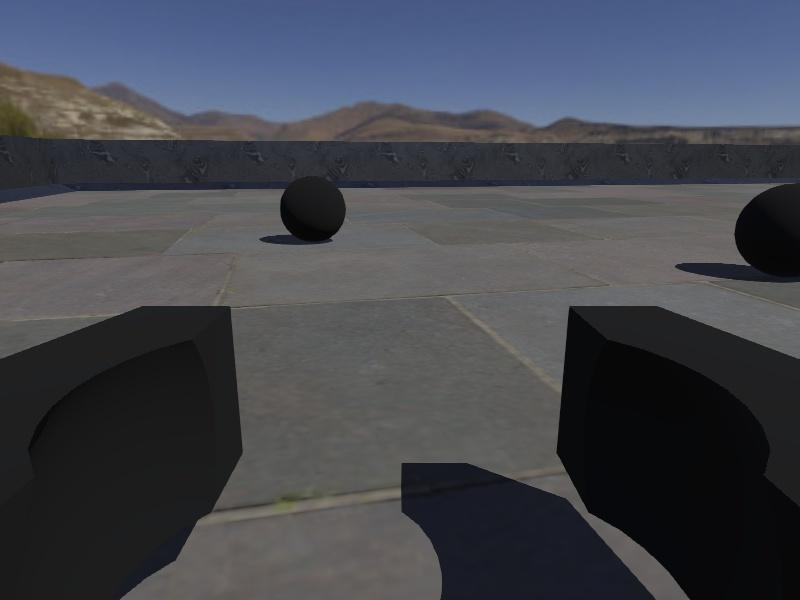black ball: (280, 174, 348, 243)
